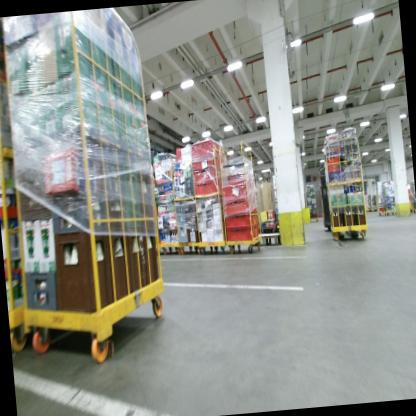pallet_truck: (313, 140, 372, 247)
small_load_carrier: (219, 167, 253, 205), (186, 135, 222, 164), (224, 225, 260, 247), (190, 178, 224, 201), (191, 151, 223, 175), (221, 211, 258, 231), (222, 196, 254, 217), (189, 165, 220, 185)
